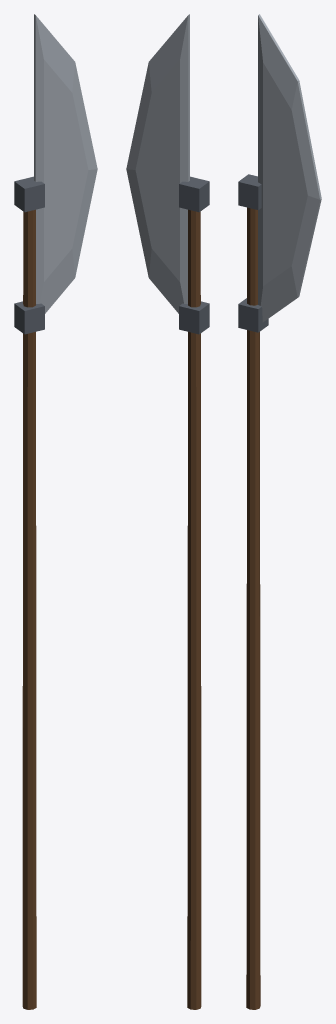
Rendered from g-halberd-bardiche.glb.
3 views of the same model, side by side, from view 1: azimuth 30°, elevation 25°; view 2: azimuth 150°, elevation 25°; view 3: azimuth 330°, elevation 25° (orthographic).
Parts seen in each view (by area): view 1: g-halberd-bardiche; view 2: g-halberd-bardiche; view 3: g-halberd-bardiche.
Part boxes in pixels (bbox=[...]): g-halberd-bardiche: bbox=[14, 14, 97, 1009]; g-halberd-bardiche: bbox=[126, 14, 209, 1009]; g-halberd-bardiche: bbox=[238, 14, 321, 1009].
Bounding box in the file's own units: 0.1725 × 2.11 × 0.04.
